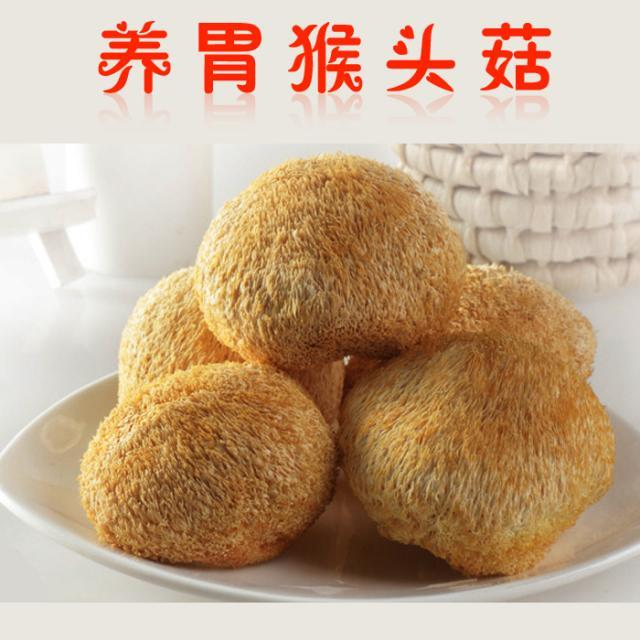Hericium erinaceus: (345, 341, 615, 581), (194, 156, 465, 365), (83, 357, 333, 565), (118, 270, 247, 403), (444, 266, 596, 374)
